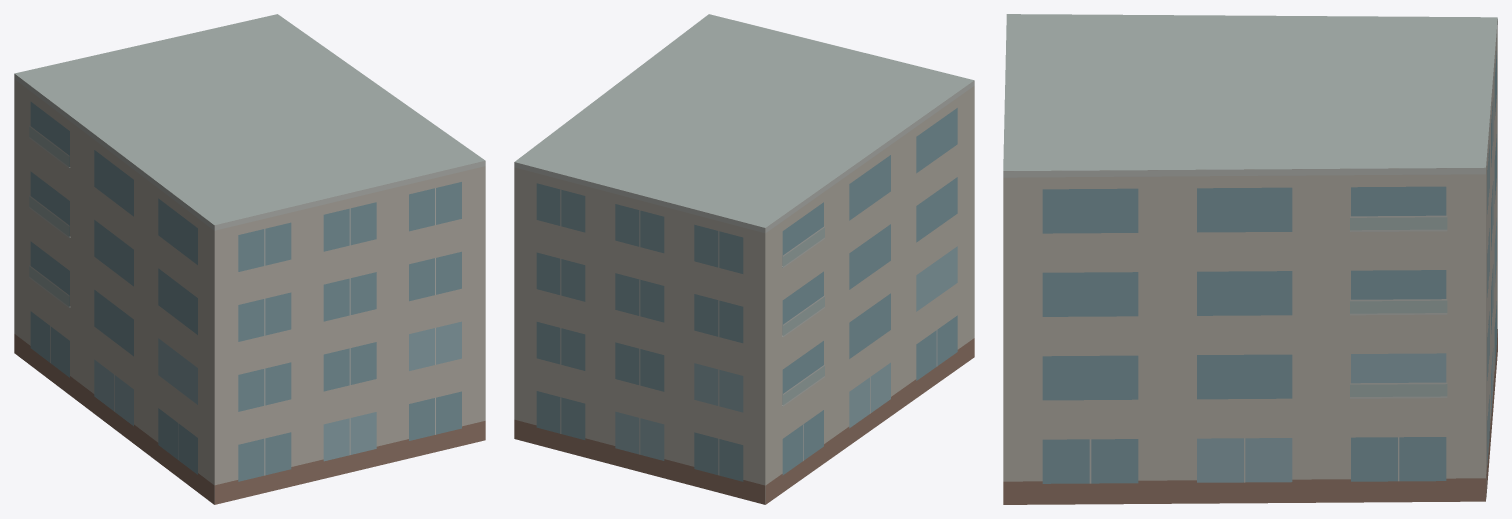
File: survey-upis-32498192.glb
The picture shows the model from 3 angles, left to right: view 1: azimuth 30°, elevation 25°; view 2: azimuth 150°, elevation 25°; view 3: azimuth 270°, elevation 25°; orthographic projection. The views are drawn at different scales.
Visible parts, largest first — view 1: survey-upis-32498192.tmp; view 2: survey-upis-32498192.tmp; view 3: survey-upis-32498192.tmp.
Boxes of the visible parts, box(x1,y1,x2,y2) form: survey-upis-32498192.tmp: box(14, 14, 485, 504); survey-upis-32498192.tmp: box(514, 14, 974, 504); survey-upis-32498192.tmp: box(1003, 14, 1497, 504).
Bounding box in the file's own units: 12.73 × 12.6 × 16.93.
